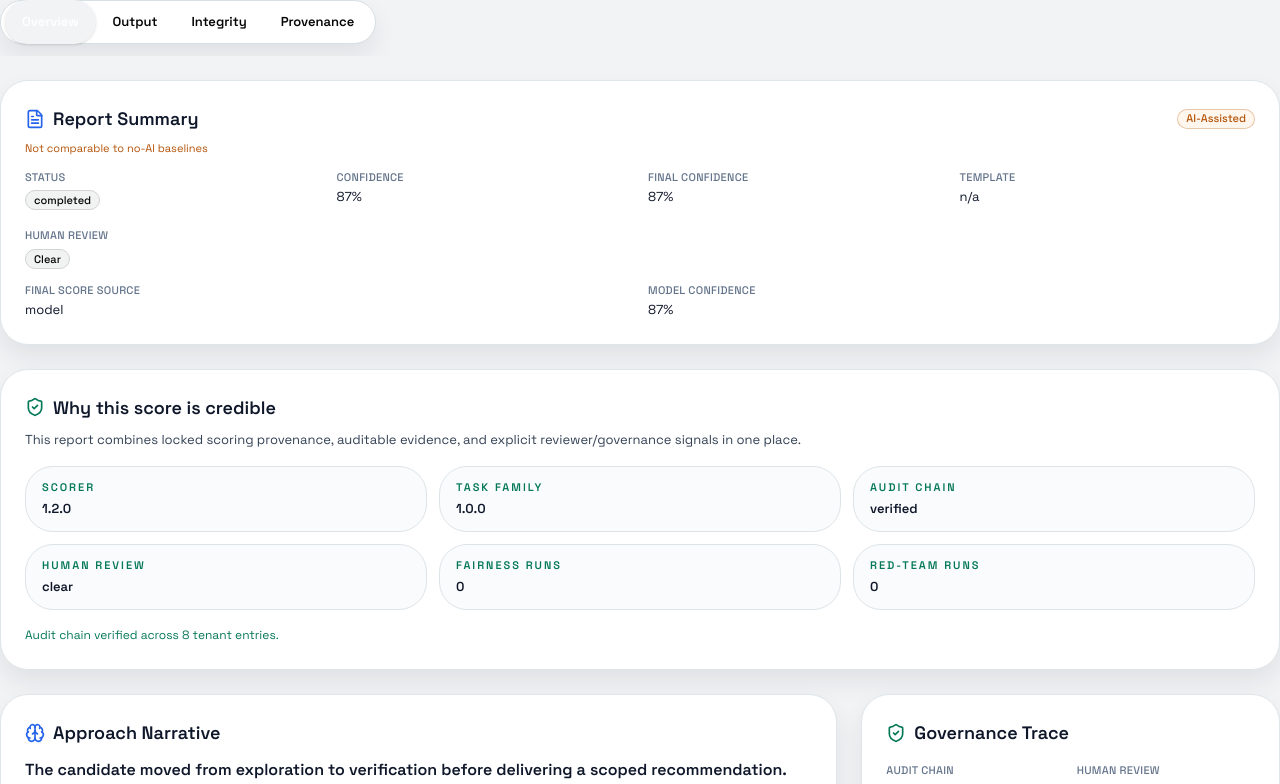
Test: ReportReviewConsole tabs › switches to Output tab and shows final response
Step 1. Click the tab "Output" → click(135, 22), box [96,0,174,44]
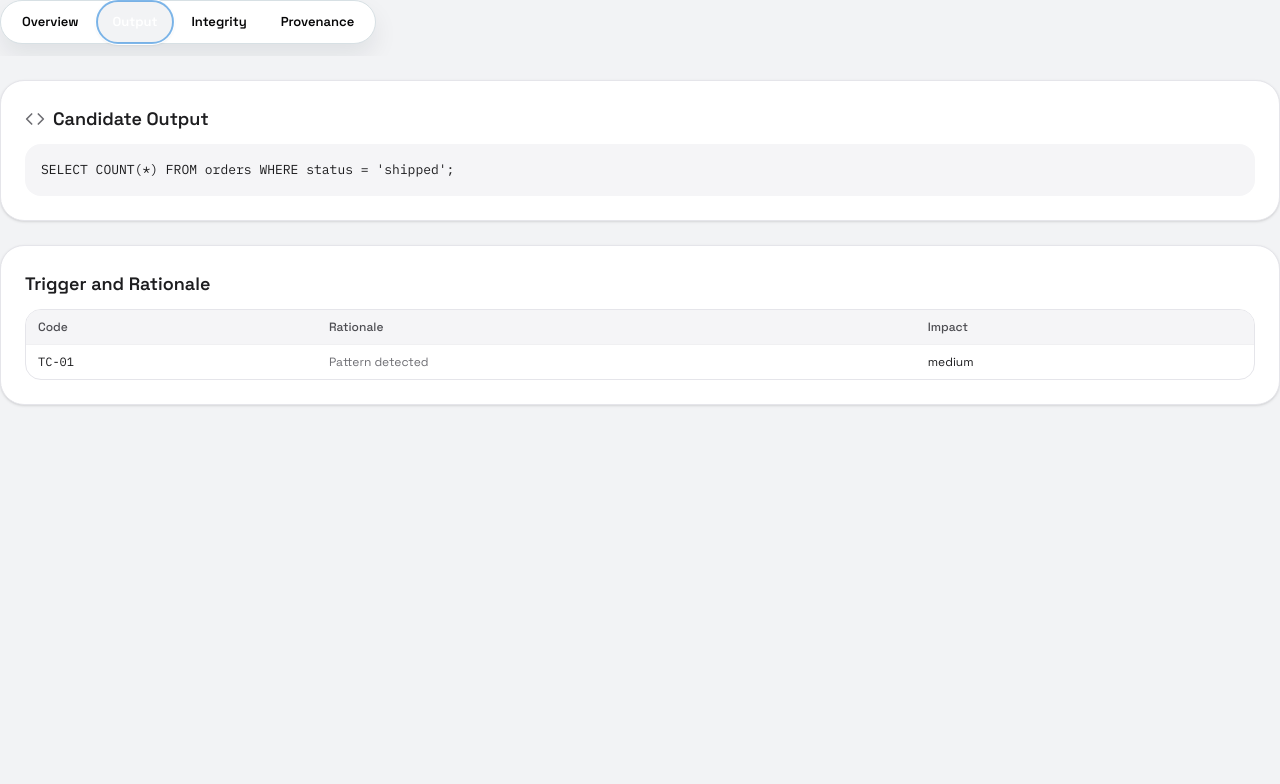
Result: the text "SELECT COUNT(*) FROM orders WHERE status = 'shipped';" is shown at [25,144,1255,196]
